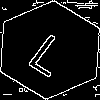L: (25, 25, 79, 78)
